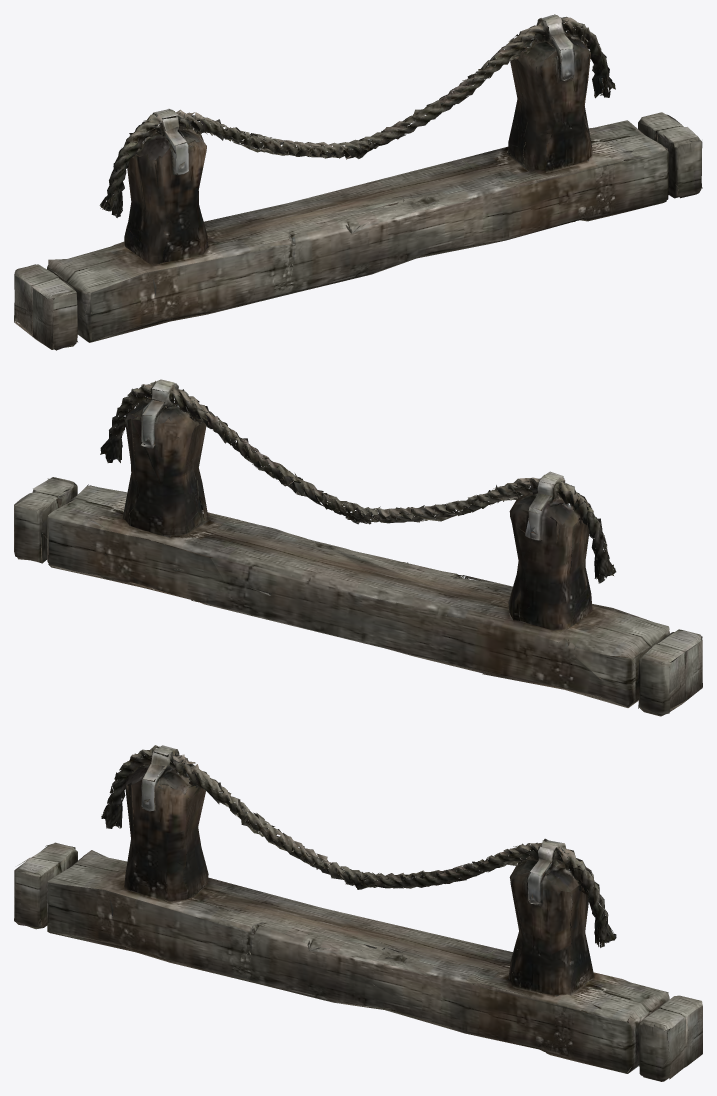
Rendered from wharf-rope-rail-straight.glb.
3 renders of one model, top to bottom at view 1: azimuth 30°, elevation 25°; view 2: azimuth 150°, elevation 25°; view 3: azimuth 330°, elevation 25°, orthographic.
Parts seen in each view (by area): view 1: Mesh_0; view 2: Mesh_0; view 3: Mesh_0.
Boxes of the visible parts, x1,y1,x2,y2 form: Mesh_0: (14, 14, 702, 350); Mesh_0: (14, 379, 702, 716); Mesh_0: (14, 745, 702, 1081).
Bounding box in the file's own units: 1.9 × 0.5451 × 0.2233.
1 material, 1 textured.
